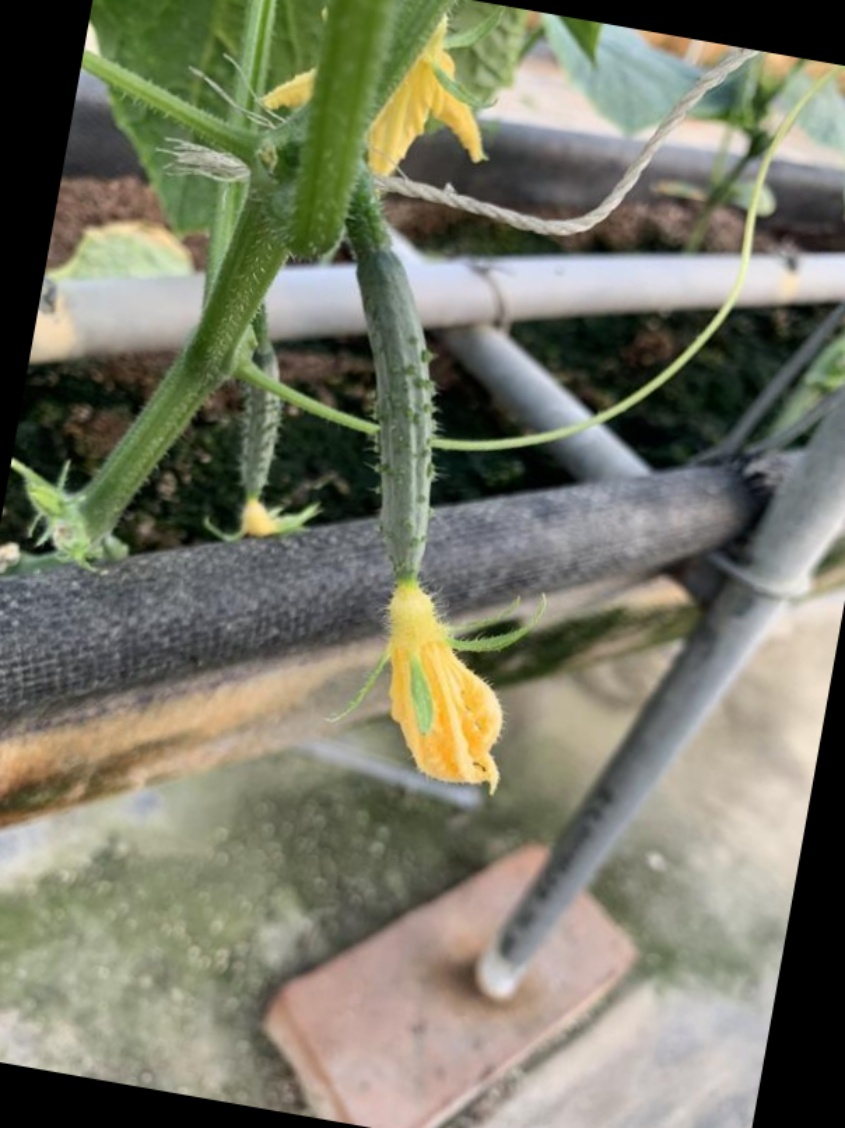bear: (312, 246, 541, 782)
